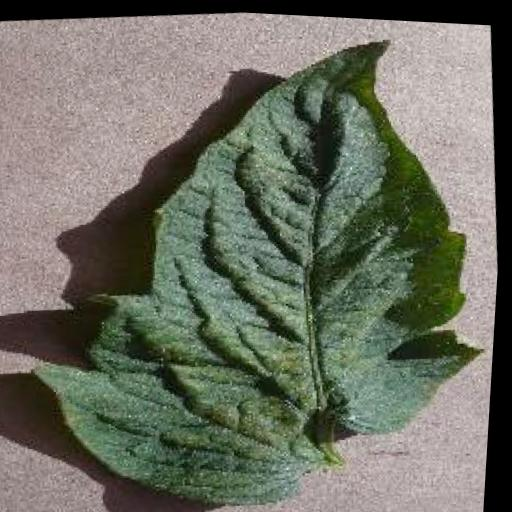Spider Mites: (3, 10, 508, 512)
